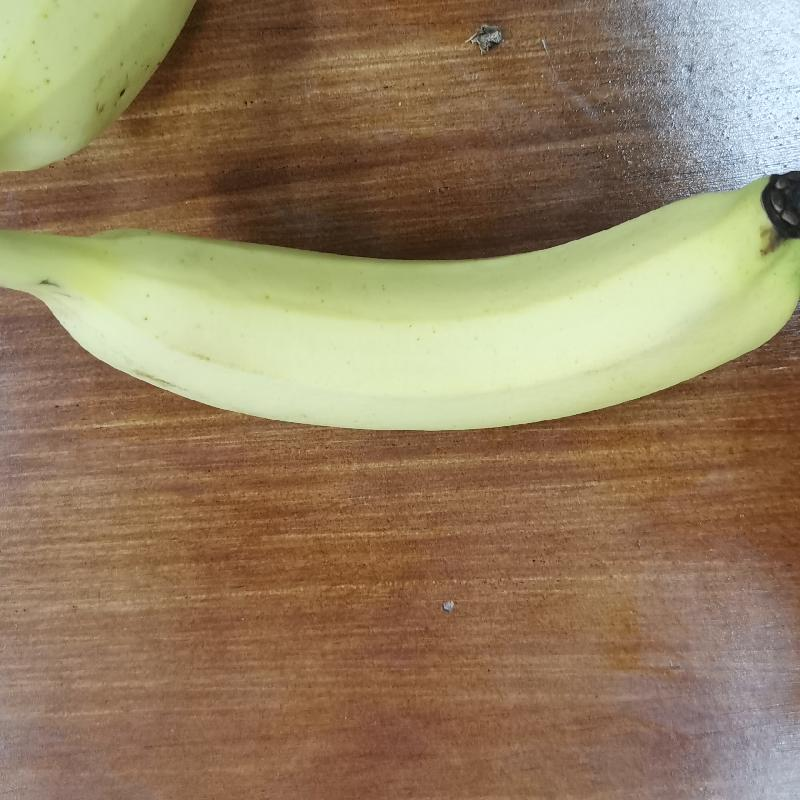bananas: (0, 145, 799, 438)
